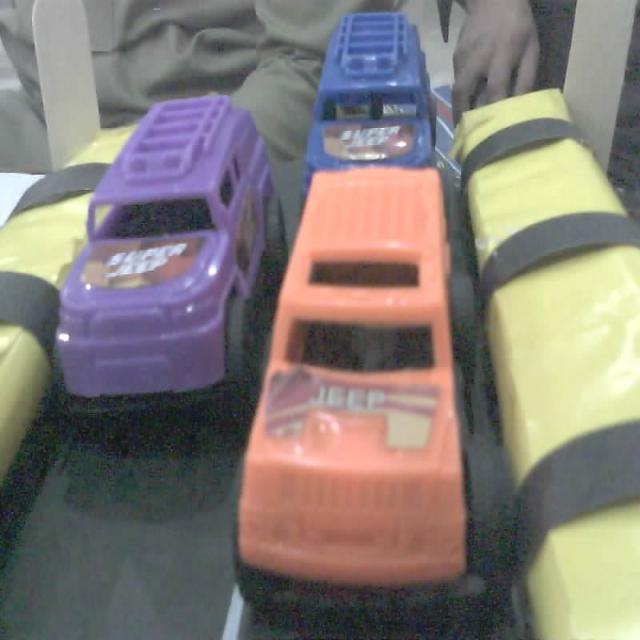ThreeCar: (244, 164, 525, 587), (51, 92, 292, 452), (289, 1, 475, 218)
